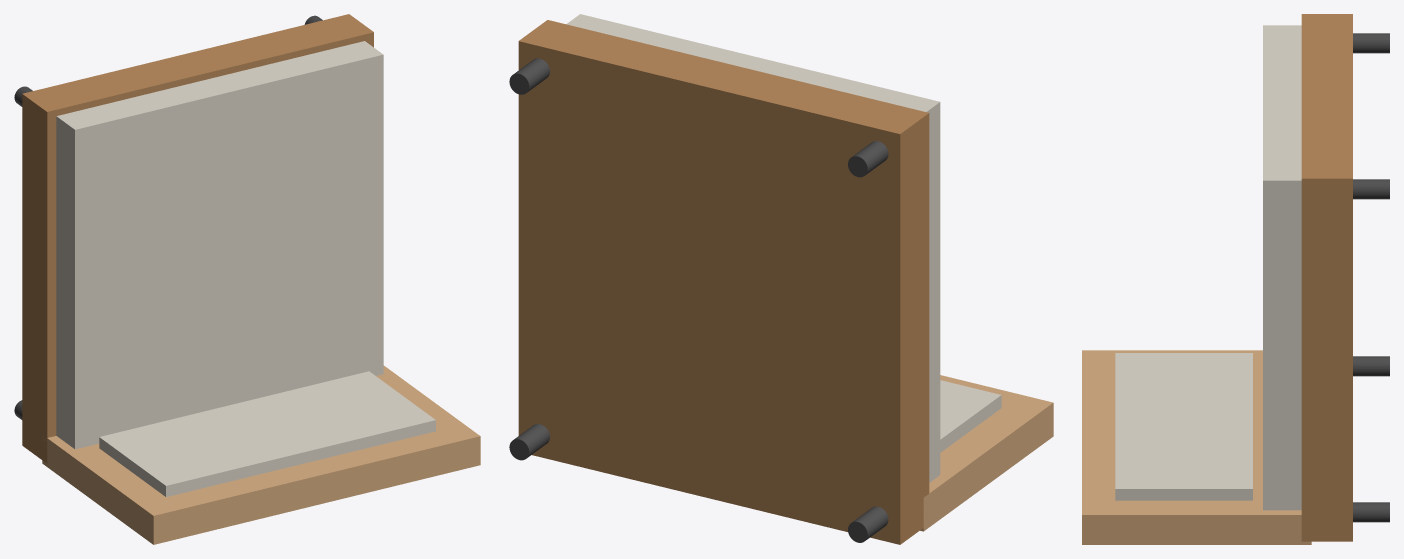
The model's file is beds.glb.
3 renders of one model, left to right at view 1: azimuth 30°, elevation 25°; view 2: azimuth 150°, elevation 25°; view 3: azimuth 270°, elevation 25°, orthographic. The views are drawn at different scales.
Parts seen in each view (by area): view 1: Mattress, Base, HeadboardPadding, Headboard; view 2: Base, Mattress, Headboard, world, HeadboardPadding, Leg; view 3: Base, HeadboardPadding, Mattress, Headboard, world, Leg.
Boxes of the visible parts, left/top/right/bottom form: Mattress: left=56, top=41, right=383, bottom=449; Base: left=22, top=14, right=373, bottom=463; HeadboardPadding: left=99, top=371, right=435, bottom=496; Headboard: left=42, top=365, right=480, bottom=544; Base: left=518, top=20, right=929, bottom=544; Mattress: left=566, top=14, right=940, bottom=482; Headboard: left=920, top=375, right=1053, bottom=531; world: left=509, top=141, right=888, bottom=542; HeadboardPadding: left=940, top=380, right=1001, bottom=452; Leg: left=509, top=58, right=549, bottom=94; Base: left=1301, top=14, right=1352, bottom=541; HeadboardPadding: left=1115, top=353, right=1252, bottom=500; Mattress: left=1263, top=25, right=1301, bottom=510; Headboard: left=1082, top=350, right=1311, bottom=544; world: left=1353, top=33, right=1389, bottom=522; Leg: left=1353, top=179, right=1389, bottom=199.
Bounding box in the file's own units: 2.12 × 2.2 × 1.67.
